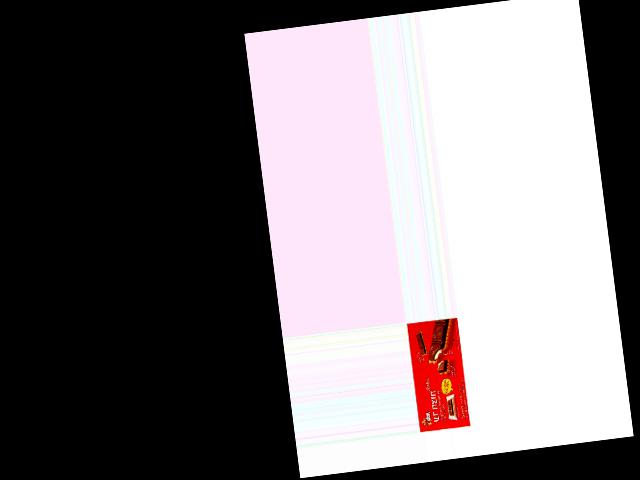chocolate: (406, 317, 471, 434)
